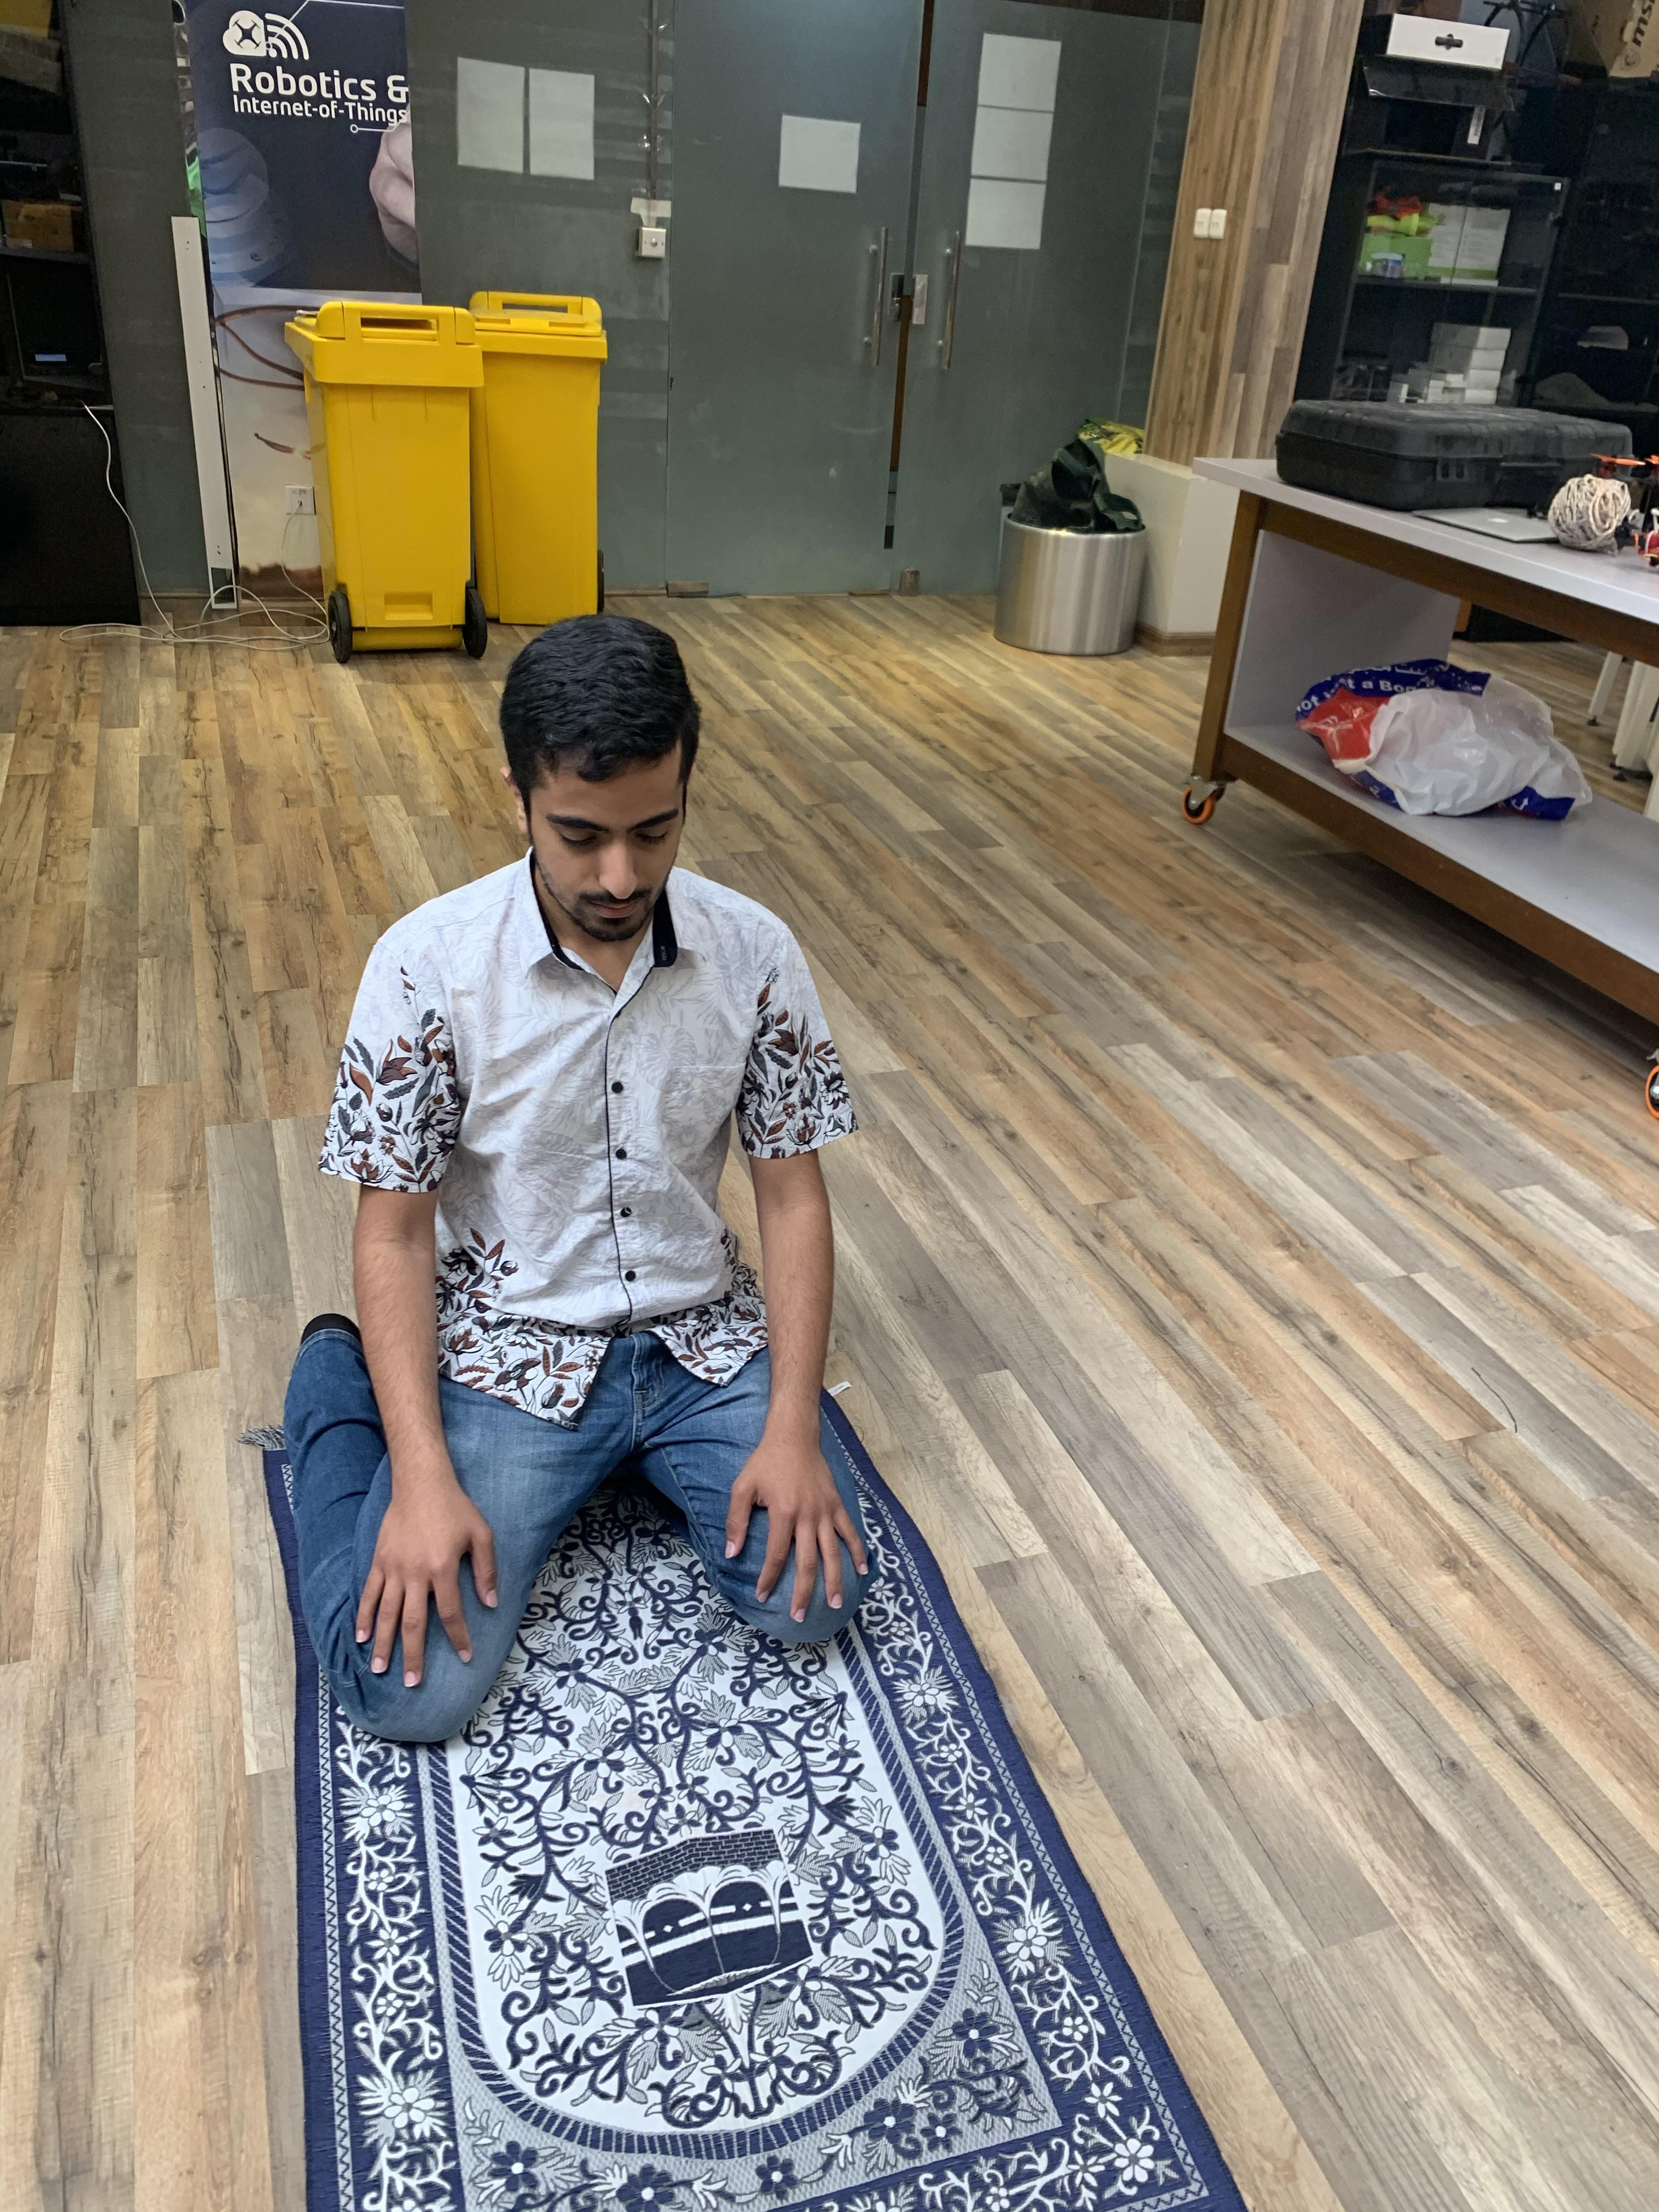julus: (279, 613, 877, 1749)
